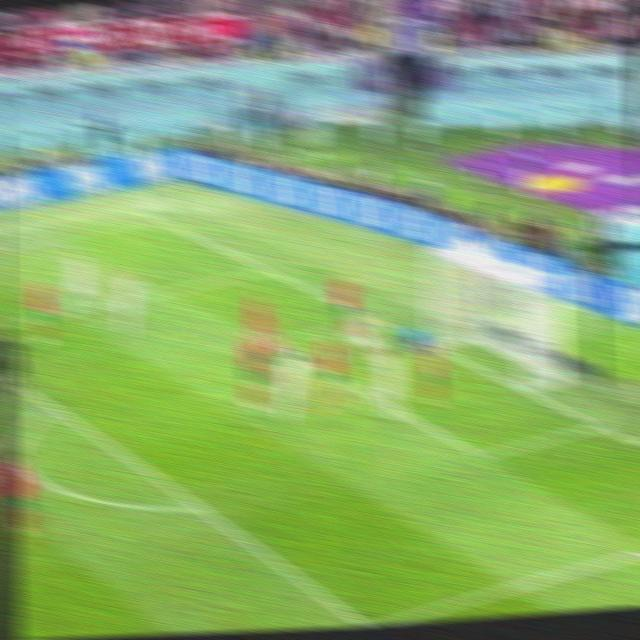bigarea_bottom_inner: (349, 606, 387, 627)
bigarea_top_outter: (251, 257, 280, 280)
bottom_arc_area_intersection: (183, 490, 213, 524)
corner: (137, 208, 168, 227)
smallarea_bottom_inner: (463, 435, 497, 472)
smallarea_bottom_outter: (582, 409, 613, 440)
smallarea_top_inner: (258, 330, 283, 353)
smallarea_top_outter: (358, 306, 386, 330)
top_arc_area_intersection: (36, 393, 64, 417)
